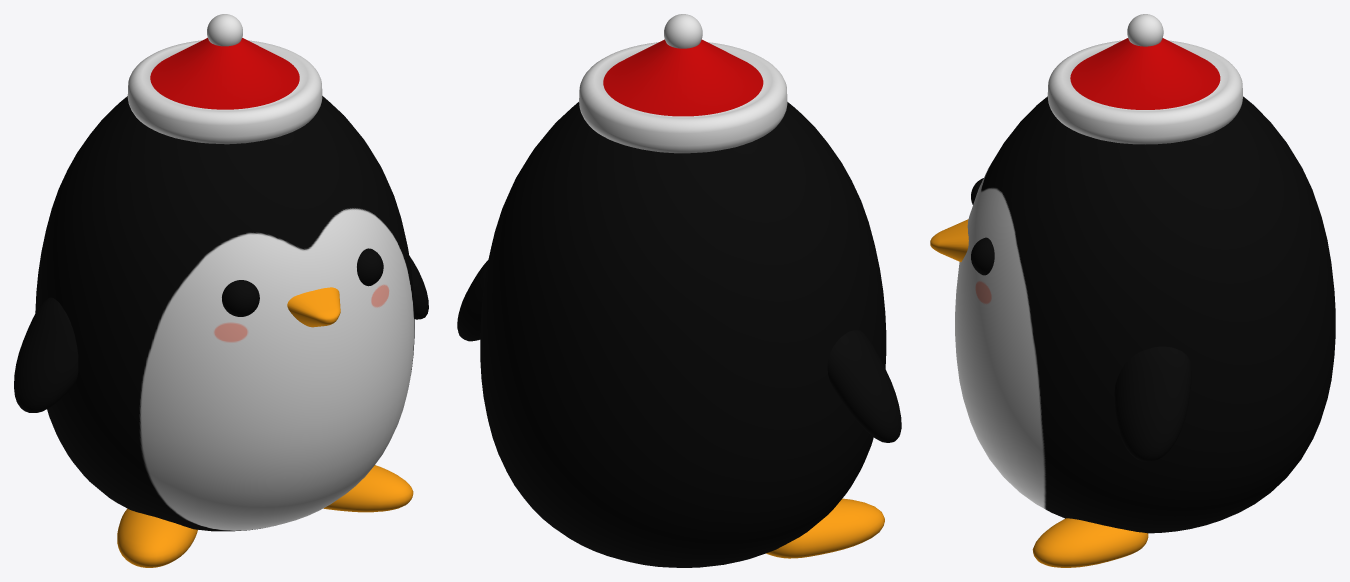
File: penguin.glb
3 views of the same model, side by side, from view 1: azimuth 30°, elevation 25°; view 2: azimuth 150°, elevation 25°; view 3: azimuth 270°, elevation 25° (orthographic). The views are drawn at different scales.
Parts seen in each view (by area): view 1: Roundcube, Roundcube.003, Roundcube.001, Roundcube.002, Cube; view 2: Roundcube, Roundcube.003, Roundcube.001; view 3: Roundcube, Roundcube.003, Roundcube.001, Cube, Roundcube.002.
Part boxes in pixels (left/top/right/bottom): Roundcube: left=35, top=96, right=414, bottom=531; Roundcube.003: left=127, top=14, right=322, bottom=144; Roundcube.001: left=14, top=256, right=428, bottom=567; Roundcube.002: left=222, top=248, right=383, bottom=316; Cube: left=287, top=287, right=340, bottom=327; Roundcube: left=480, top=102, right=886, bottom=567; Roundcube.003: left=579, top=14, right=787, bottom=153; Roundcube.001: left=457, top=260, right=901, bottom=558; Roundcube: left=955, top=96, right=1335, bottom=533; Roundcube.003: left=1047, top=14, right=1242, bottom=144; Roundcube.001: left=1032, top=346, right=1191, bottom=567; Cube: left=930, top=219, right=968, bottom=261; Roundcube.002: left=971, top=178, right=994, bottom=275.
Size of the model in its own units: 0.8294 by 0.9546 by 0.7133.
1 material, 1 textured.
